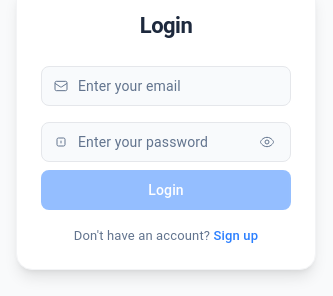
Test: Login page › should check that everything is filled in before sending
Expected: the button "Login" is disabled, [41,170,291,210]
Type "test@eventhub.com" into the field with placeholder "Enter your email" at x=166, y=86, box [41,66,291,106]
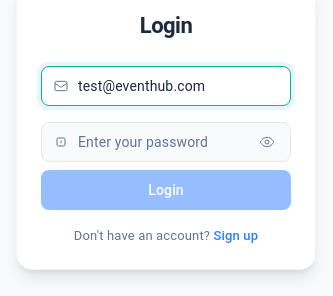
Type "Testeur123@test" into the password field with placeholder "Enter your password" at x=166, y=142, box [41,122,291,162]
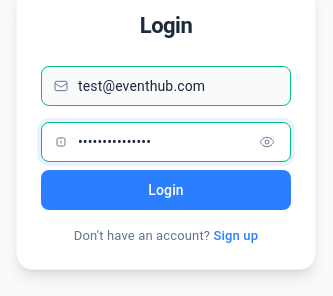
Now the button "Login" is enabled, box [41,170,291,210]
